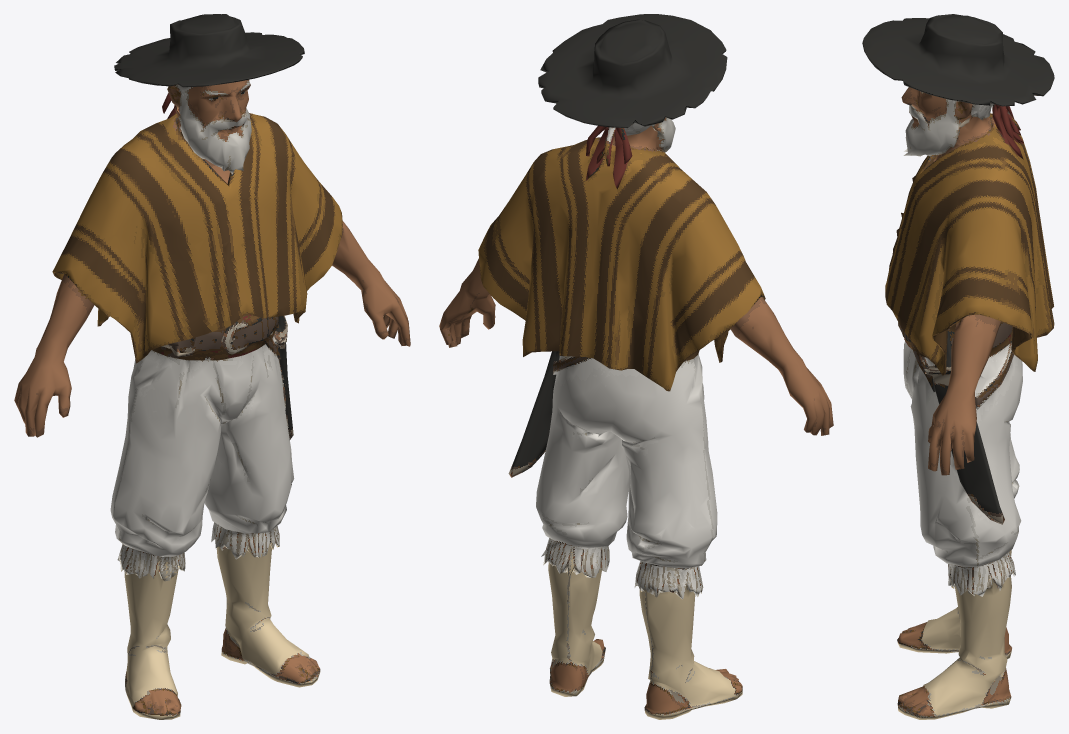
File: ciriaco.glb
3 renders of one model, left to right at view 1: azimuth 30°, elevation 25°; view 2: azimuth 150°, elevation 25°; view 3: azimuth 270°, elevation 25°, orthographic.
Visible parts, largest first — view 1: tripo_node_c3379db3-8214-4cf6-bbbb-2114c4da4462; view 2: tripo_node_c3379db3-8214-4cf6-bbbb-2114c4da4462; view 3: tripo_node_c3379db3-8214-4cf6-bbbb-2114c4da4462.
Part boxes in pixels (x1,y1,x2,y2): tripo_node_c3379db3-8214-4cf6-bbbb-2114c4da4462: (14, 14, 410, 719); tripo_node_c3379db3-8214-4cf6-bbbb-2114c4da4462: (439, 14, 833, 719); tripo_node_c3379db3-8214-4cf6-bbbb-2114c4da4462: (862, 14, 1054, 719).
Size of the model in its own units: 0.6067 by 1 by 0.266.
1 material, 1 textured.
